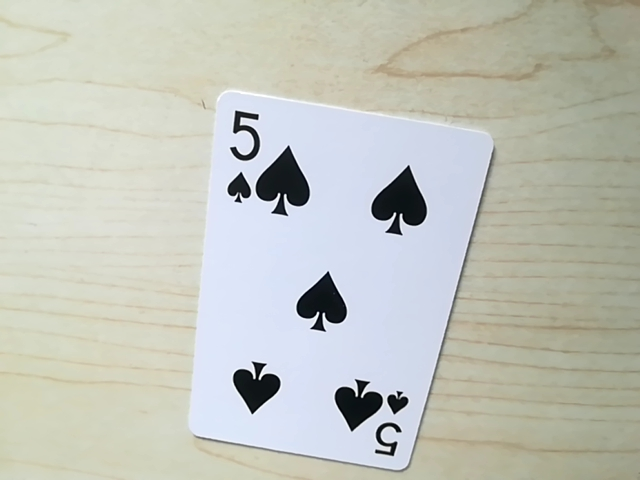ht 5: (213, 99, 259, 220), (366, 391, 413, 464)
